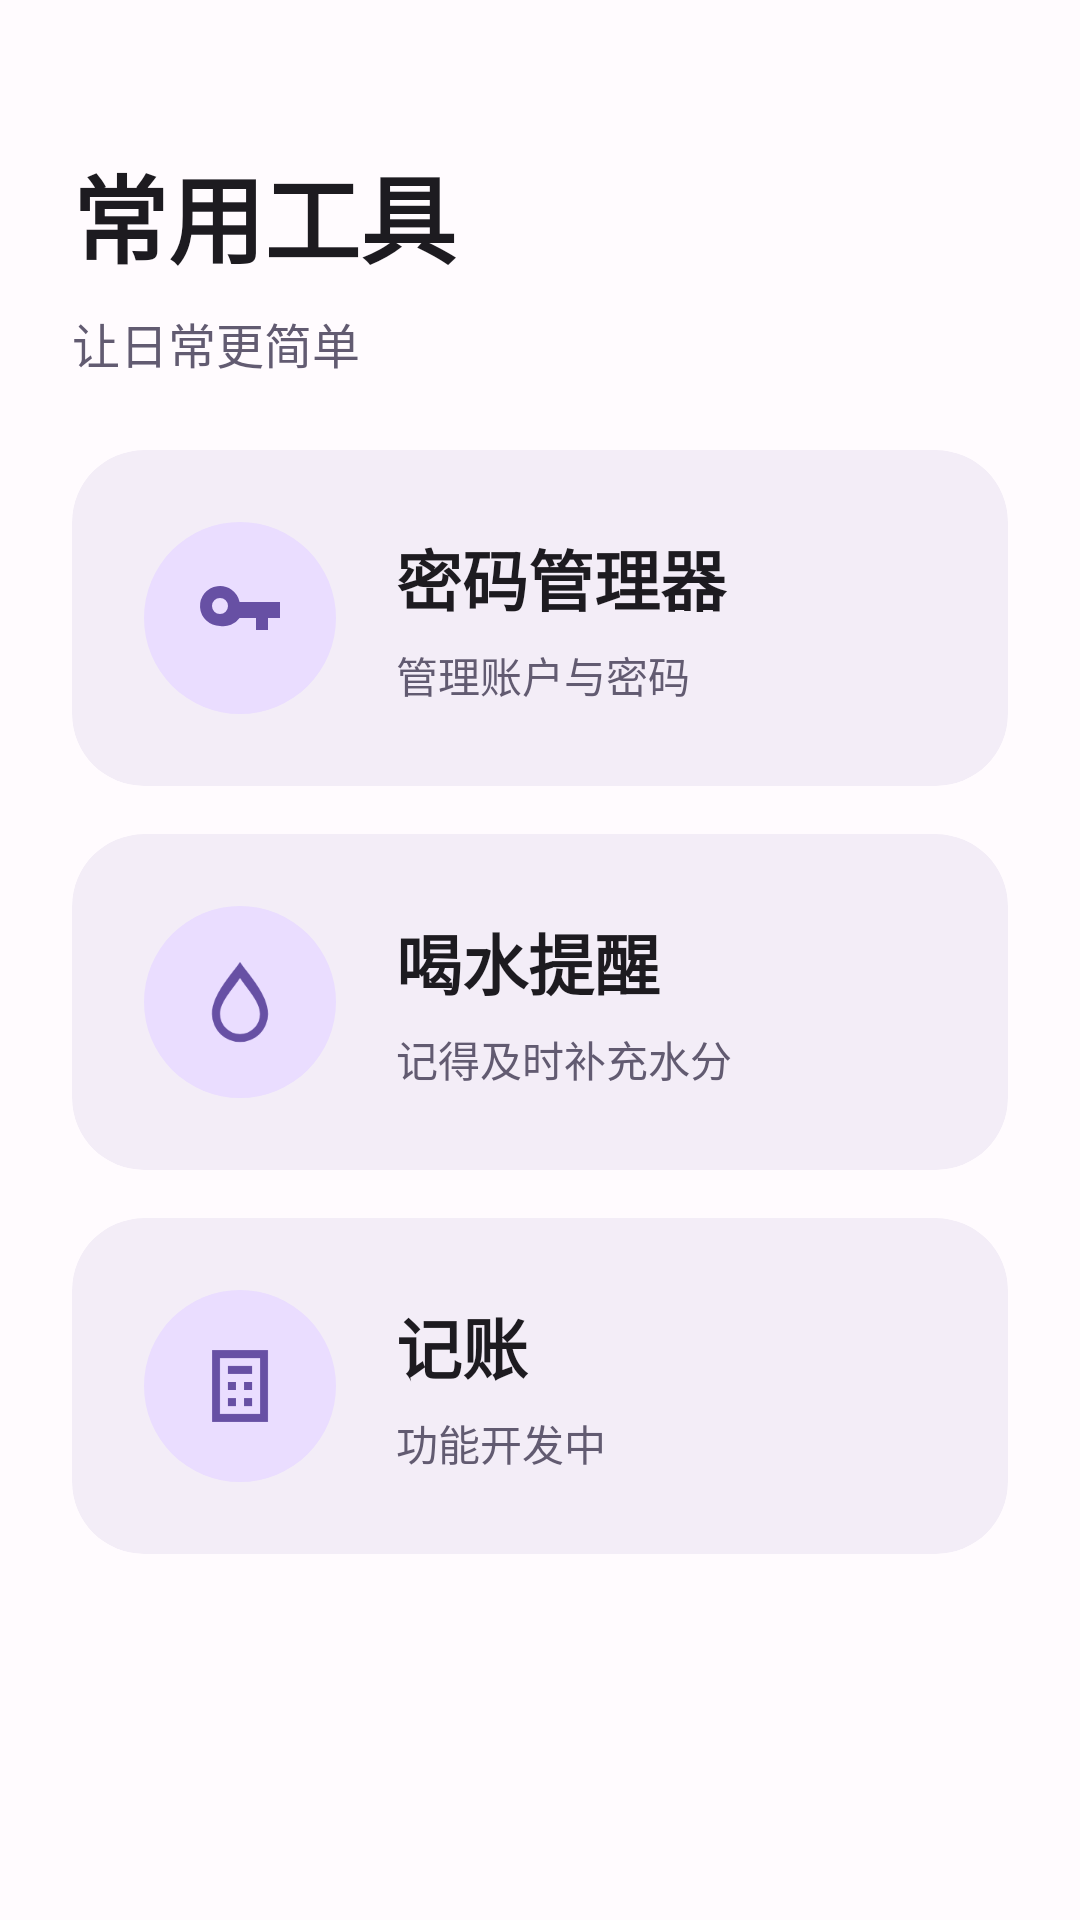

Screen size 1080 × 1920. Icon name, then its box in pixels as (x1, y1, x2, y2):
accounting: (212, 1350, 268, 1422)
password: (200, 586, 280, 630)
water: (144, 906, 336, 1098)
